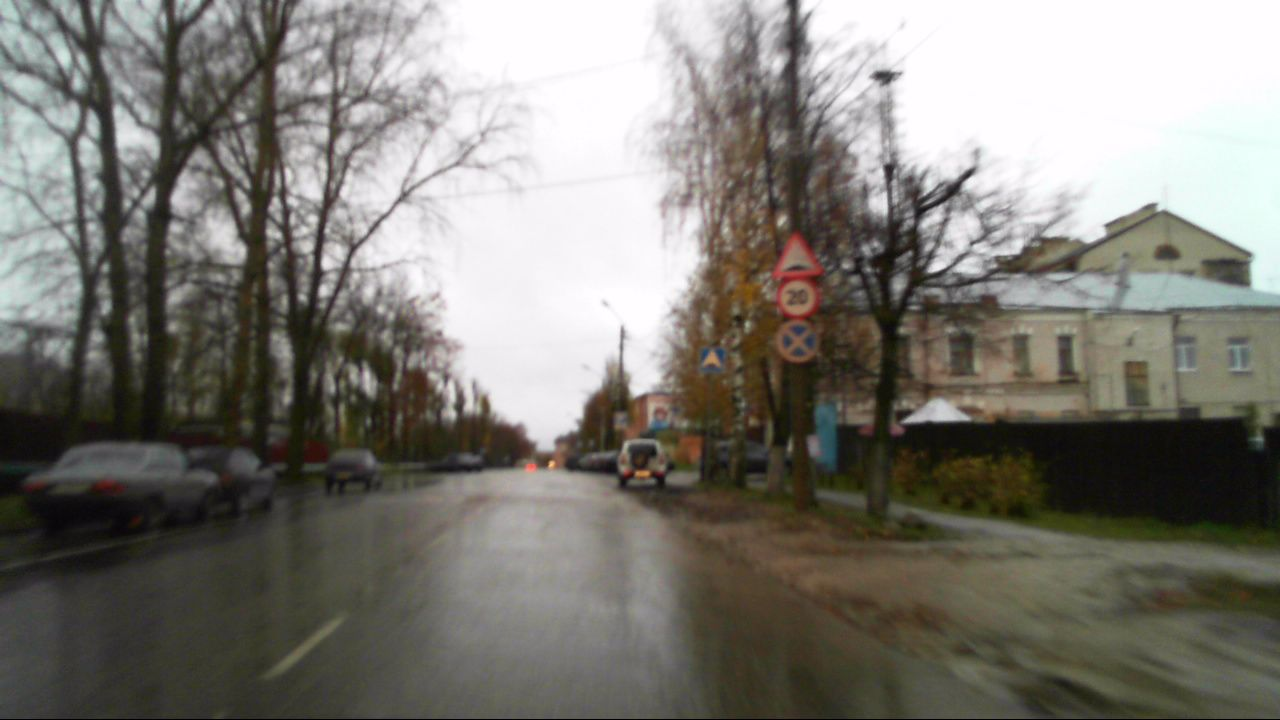No Parking: (776, 319, 819, 363)
